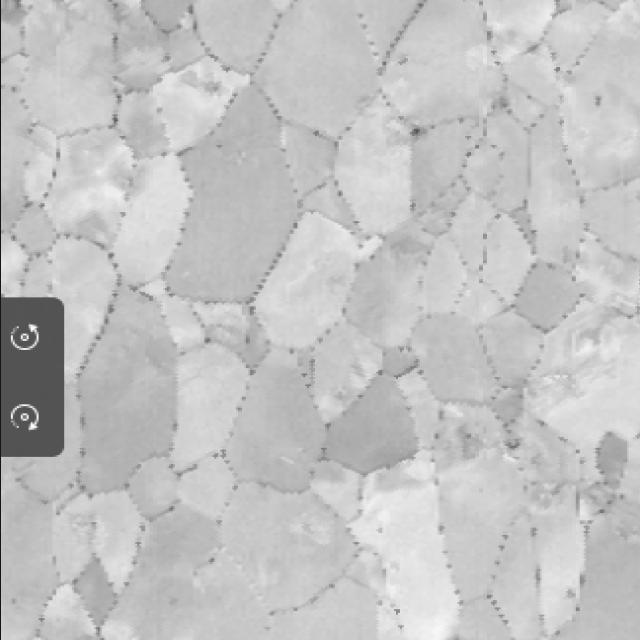good_void: (184, 64, 227, 101), (396, 121, 430, 140), (499, 433, 527, 456), (391, 53, 414, 68), (589, 94, 607, 111)
